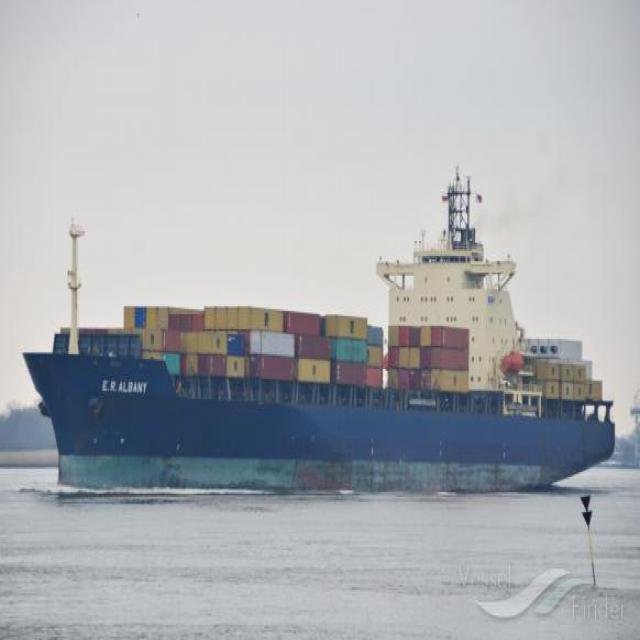Container Ship: (25, 236, 618, 495)
